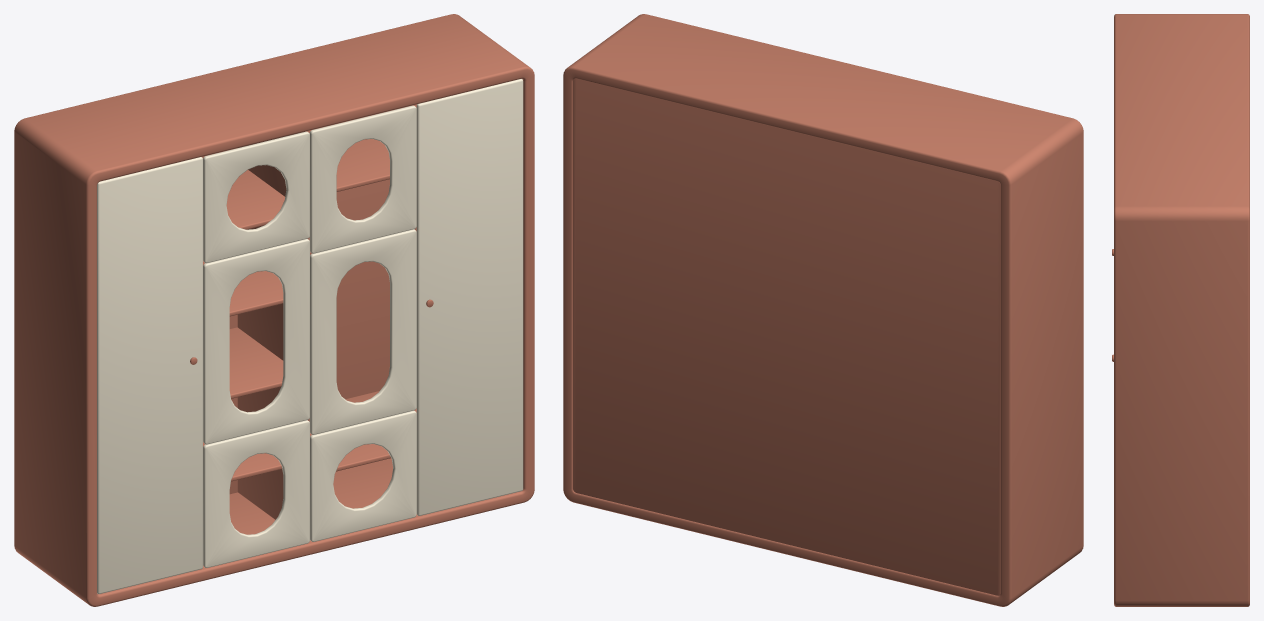
File: guarda_roupa_portas_vazadas_rosado.glb
The picture shows the model from 3 angles, left to right: view 1: azimuth 30°, elevation 25°; view 2: azimuth 150°, elevation 25°; view 3: azimuth 270°, elevation 25°; orthographic projection. The views are drawn at different scales.
Parts seen in each view (by area): view 1: guarda_roupa_portas_vazadas_rosado, porta_4, porta_1, porta_3, porta_2; view 2: guarda_roupa_portas_vazadas_rosado; view 3: guarda_roupa_portas_vazadas_rosado.
Boxes of the visible parts, x1,y1,x2,y2 form: guarda_roupa_portas_vazadas_rosado: [14, 14, 534, 606]; porta_4: [416, 79, 523, 515]; porta_1: [97, 157, 202, 594]; porta_3: [309, 105, 416, 541]; porta_2: [203, 131, 309, 567]; guarda_roupa_portas_vazadas_rosado: [563, 14, 1083, 606]; guarda_roupa_portas_vazadas_rosado: [1114, 14, 1249, 606].
Bounding box in the file's own units: 2.1 × 1.95 × 0.609.
1 material, 1 textured.
